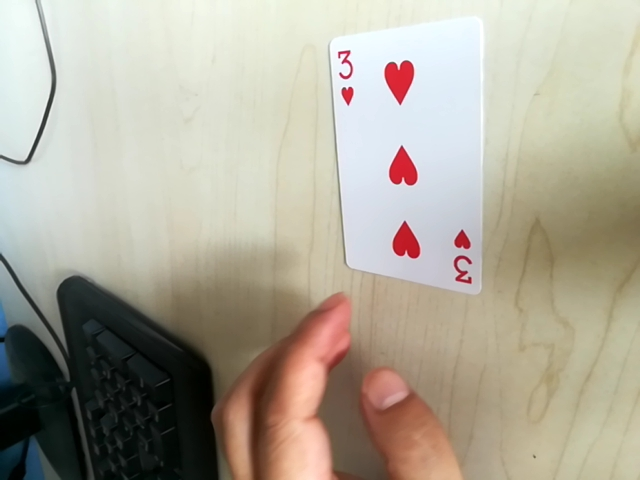hx 3: (448, 233, 482, 294), (325, 43, 356, 106)
